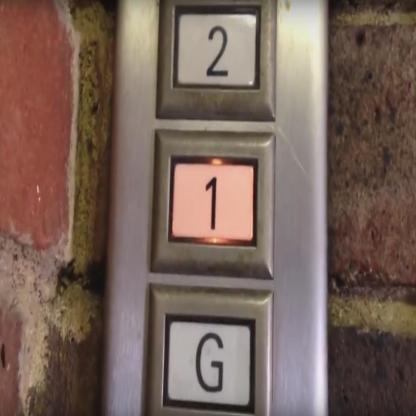1: (149, 129, 274, 279)
2: (154, 0, 276, 122)
G: (141, 284, 272, 415)
